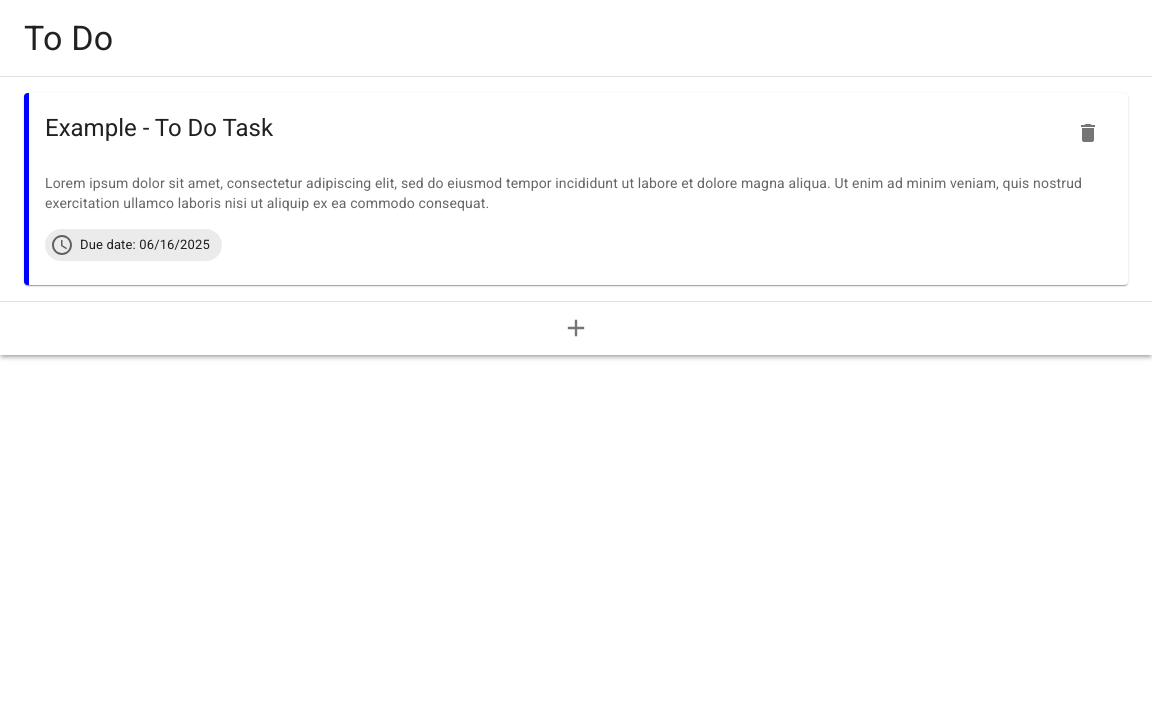
Test: TasksColumn › should open the add task dialog when add button is clicked
Click the button named "Add": {"x": 576, "y": 328} [550,302,602,354]
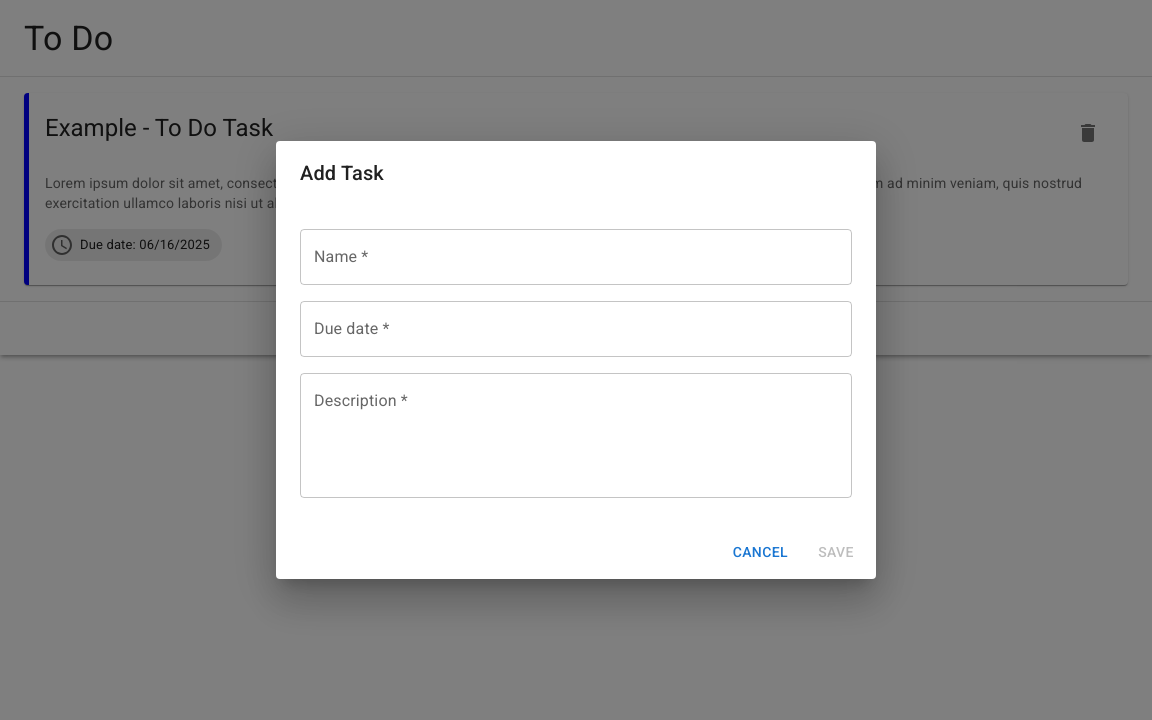
Now the dialog is shown, box [276,141,876,579]
